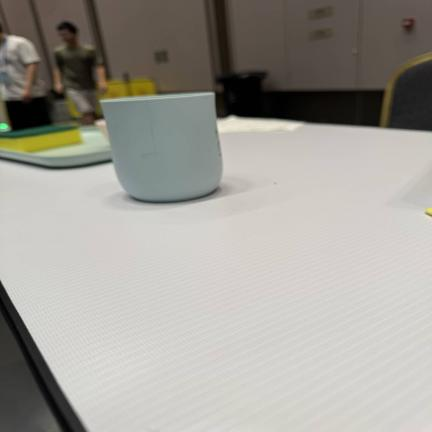cup: (102, 93, 222, 202)
